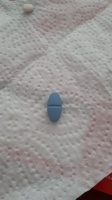Majezik: (47, 91, 63, 125)
